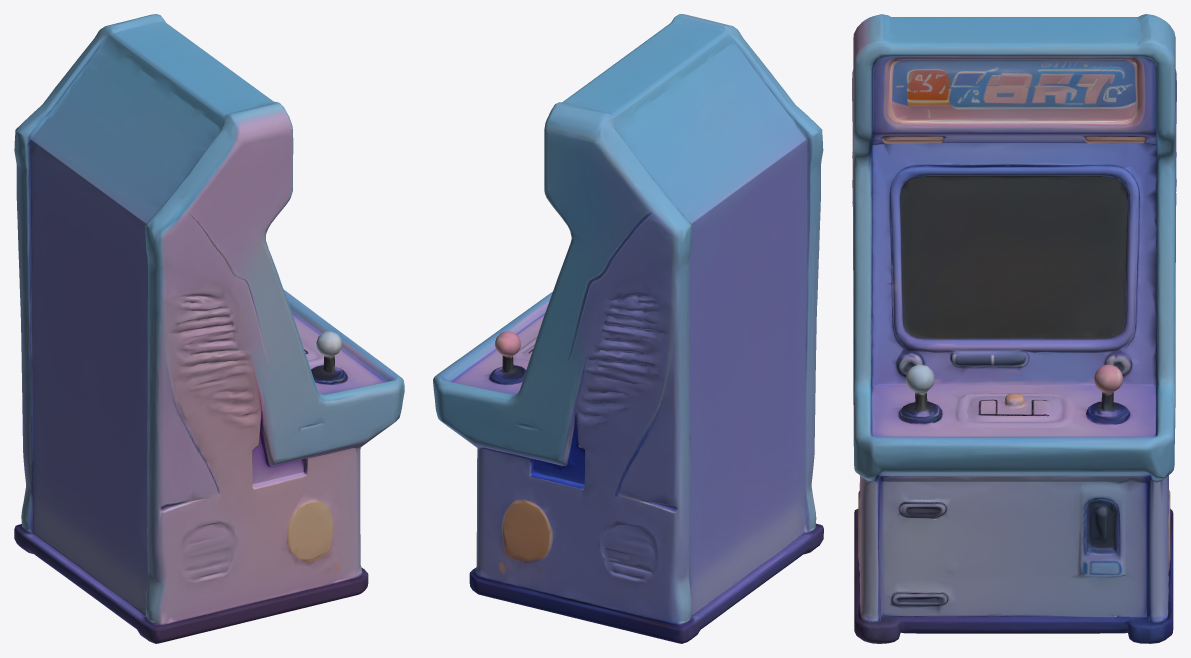
The model's file is au_furn_arcade_cab.glb.
3 renders of one model, left to right at view 1: azimuth 30°, elevation 25°; view 2: azimuth 150°, elevation 25°; view 3: azimuth 270°, elevation 25°, orthographic. The views are drawn at different scales.
Parts seen in each view (by area): view 1: tripo_node_c054c4a6-0759-429c-b08b-4a0eab116824; view 2: tripo_node_c054c4a6-0759-429c-b08b-4a0eab116824; view 3: tripo_node_c054c4a6-0759-429c-b08b-4a0eab116824.
Boxes of the visible parts, bbox=[...] form: tripo_node_c054c4a6-0759-429c-b08b-4a0eab116824: bbox=[14, 14, 404, 643]; tripo_node_c054c4a6-0759-429c-b08b-4a0eab116824: bbox=[433, 14, 823, 643]; tripo_node_c054c4a6-0759-429c-b08b-4a0eab116824: bbox=[852, 14, 1176, 643].
Bounding box in the file's own units: 0.2727 × 0.5 × 0.2622.
Materials: 1 (1 with a texture image).
